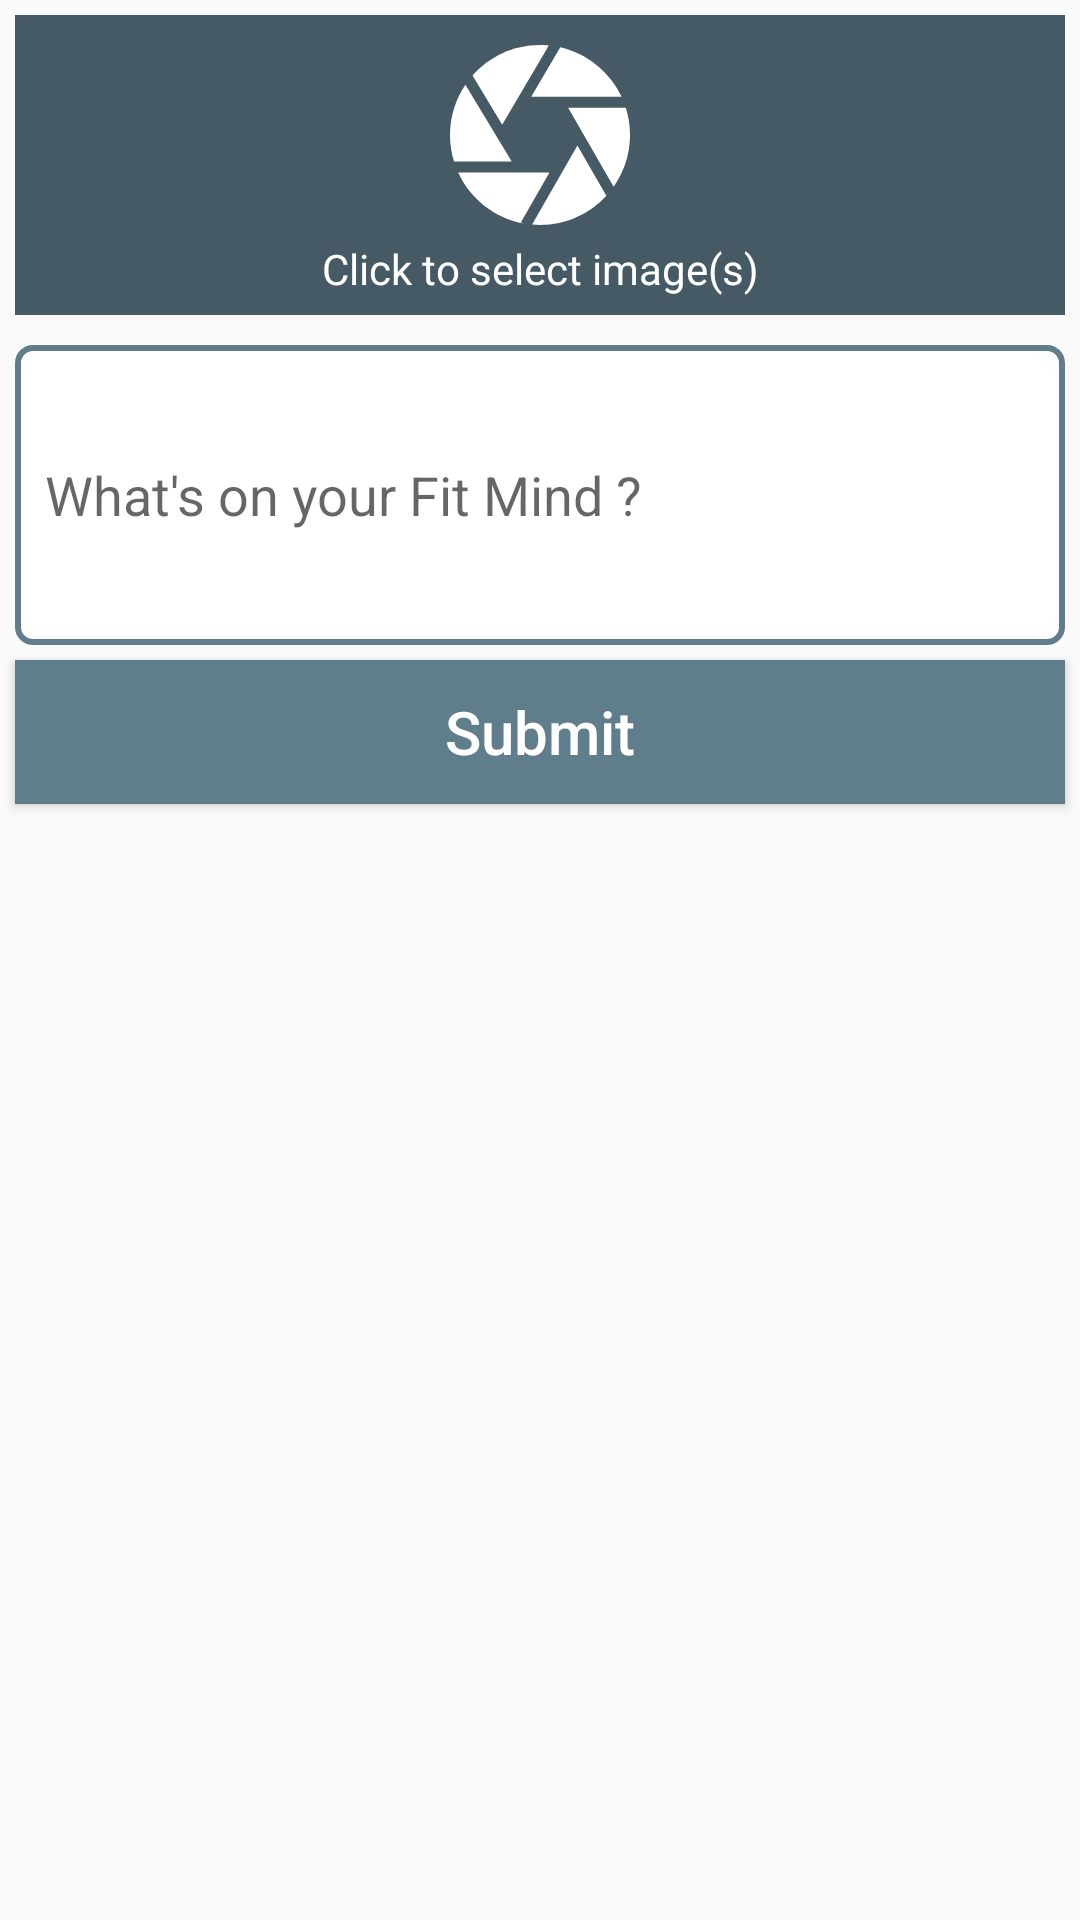

Named icons in this screenshot (1080 x 1920) and their centers, point (x, y):
camera shutter: point (540, 135)
